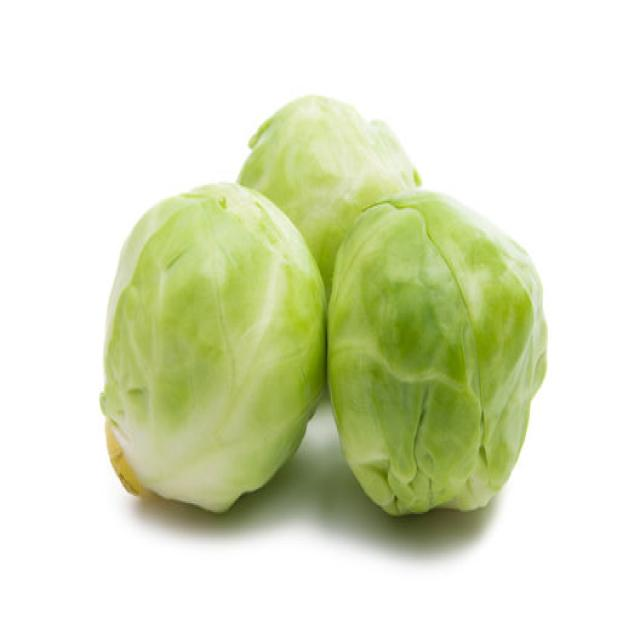Cabbage: (100, 180, 328, 514), (325, 187, 548, 517), (235, 92, 421, 298)
